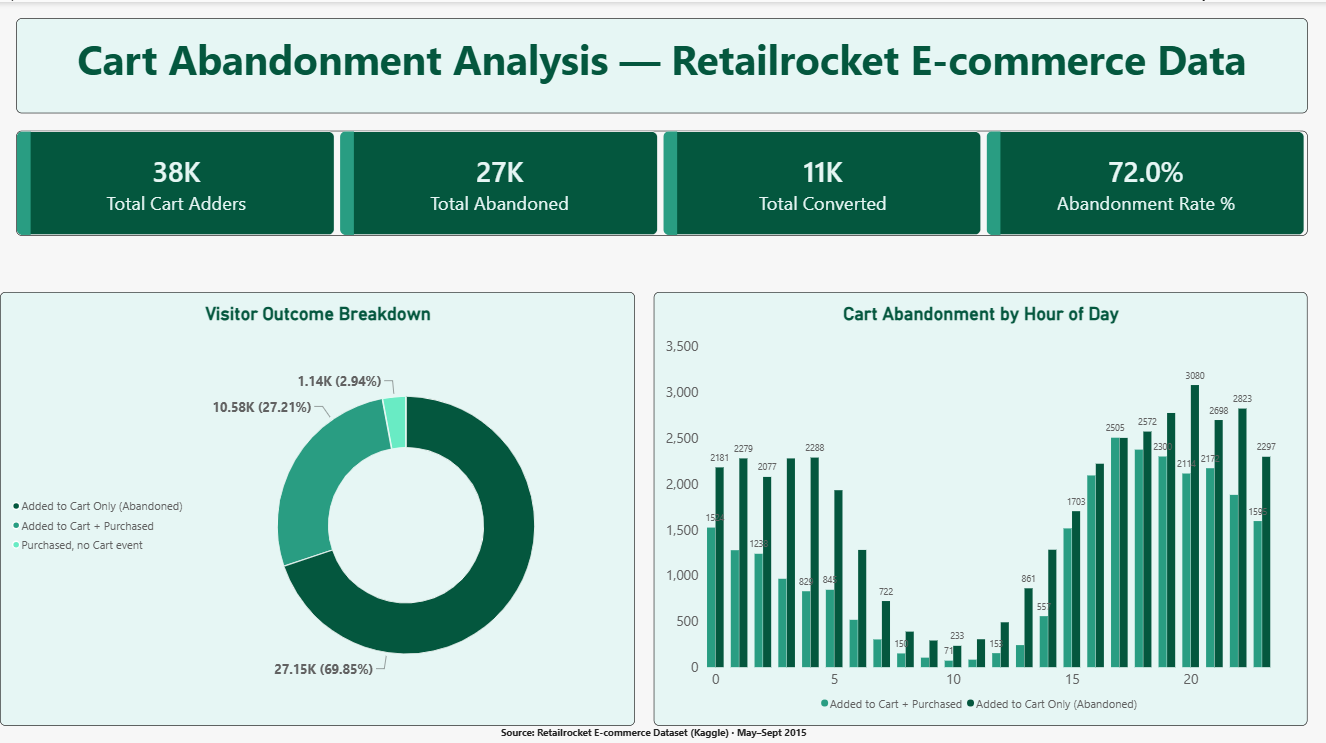

Layout of this report page (visuals, bound fields, positions):
{"tool":"powerbi","page":{"name":"Page 1","canvas":[1920,1080],"ordinal":0},"visuals":[{"type":"cardVisual","fields":{"Data":["visitor_summary.Total Cart Adders","visitor_summary.Total Abandoned","visitor_summary.Total Converted","visitor_summary.Abandonment Rate %"]},"box":[23.5,186.4,1869.4,152],"z":0},{"type":"donutChart","title":"Visitor Outcome Breakdown","fields":{"Category":["visitor_summary.visitor_status"],"Y":["CountNonNull(visitor_summary.visitorid)"]},"box":[0,419.8,919.3,628],"z":1},{"type":"clusteredColumnChart","title":"Cart Abandonment by Hour of Day","fields":{"Category":["funnel_events_clean.Hour"],"Y":["CountNonNull(funnel_events_clean.itemid)"],"Series":["visitor_summary.visitor_status"]},"box":[932,419.8,953.7,628],"z":2},{"type":"textbox","box":[23.5,23.5,1869.4,137.5],"z":3},{"type":"textbox","box":[0,1047.8,1892.9,32.6],"z":4}]}

Visuals, with their boxes in screenshot pixels (x1, y1, x2, y2), scaled from the page's 1920x1080 canvas onto the 1326x743 screenshot:
cardVisual - visitor_summary.Total Cart Adders x visitor_summary.Total Abandoned: [16, 128, 1307, 233]
"Visitor Outcome Breakdown" donutChart: [0, 289, 635, 721]
"Cart Abandonment by Hour of Day" clusteredColumnChart: [644, 289, 1302, 721]
textbox: [16, 16, 1307, 111]
textbox: [0, 721, 1307, 742]
